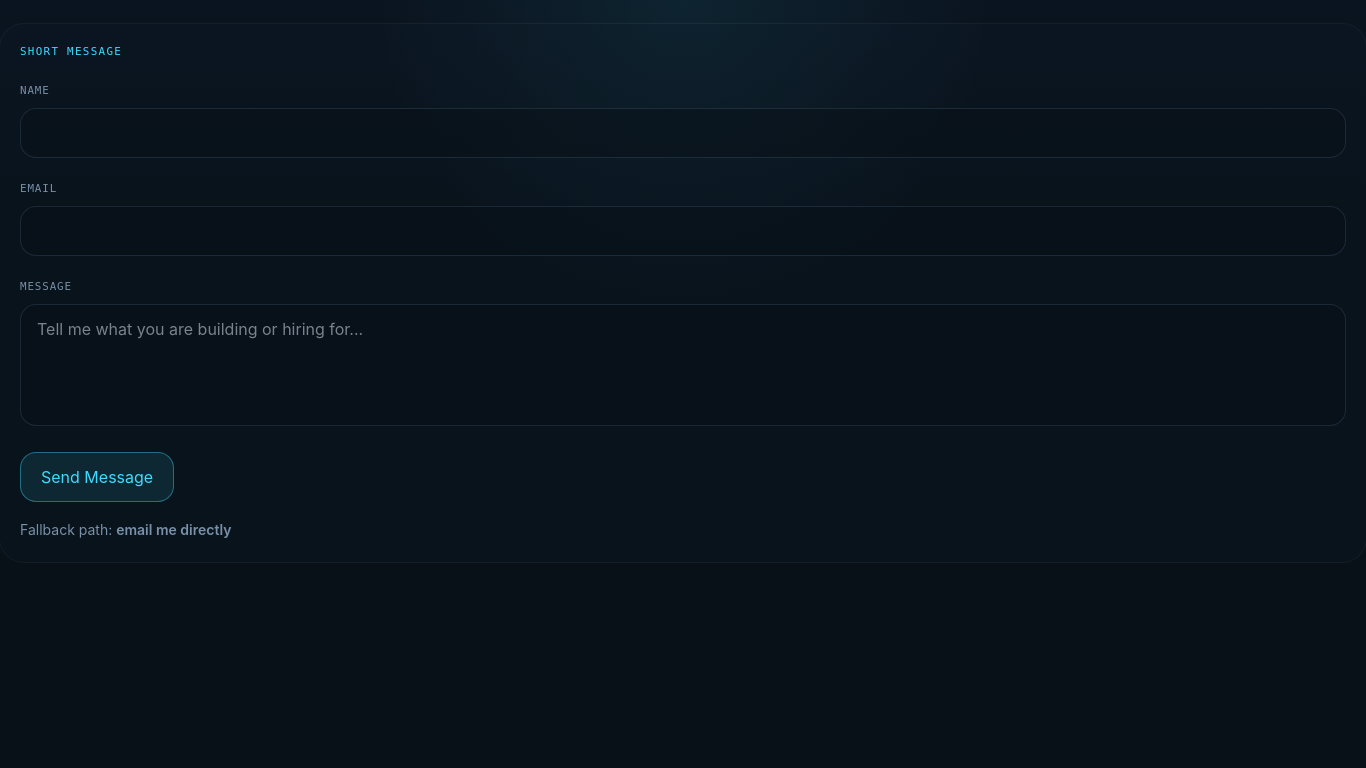
ContactForm › rejects invalid email format before submission
This screenshot has width=1366, height=768.
Type "Thapelo" into the field labelled "Name". click: x=683, y=133
box: [20,108,1346,158]
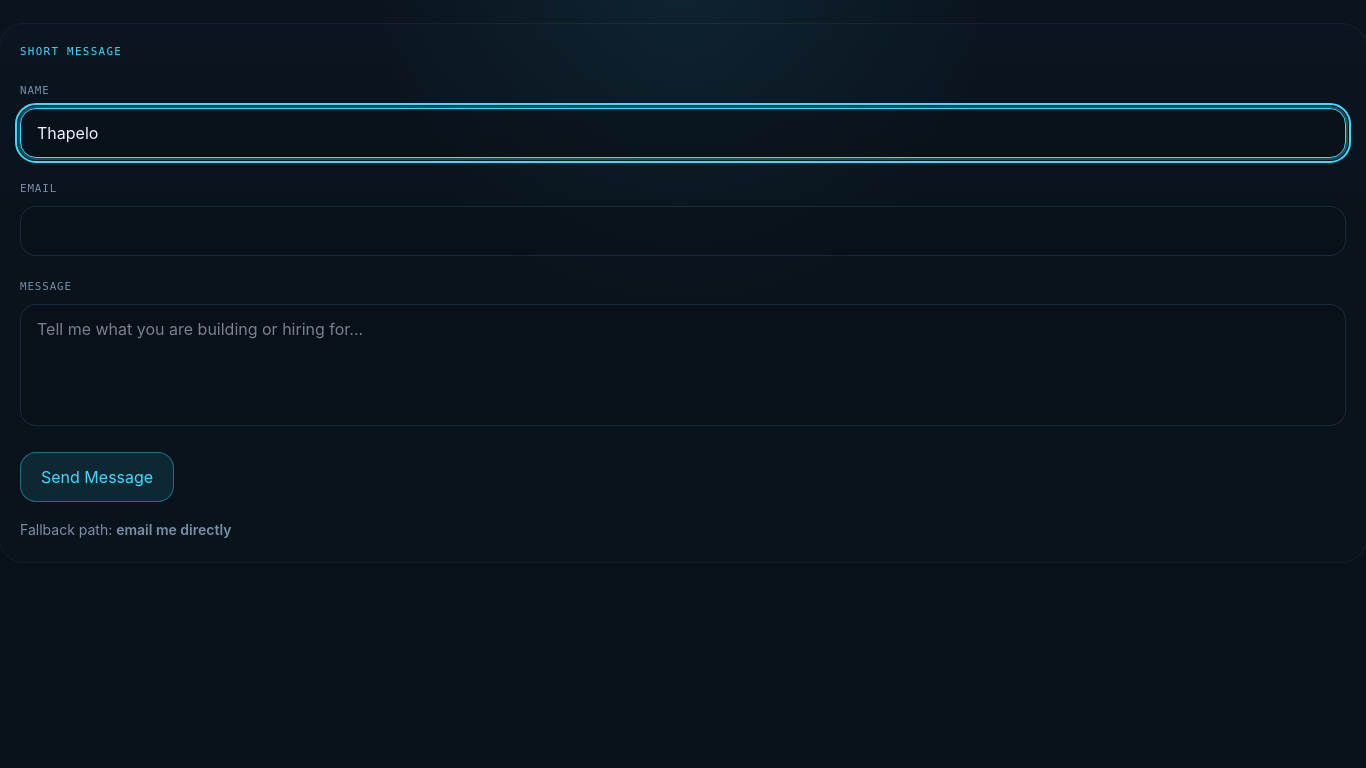
Type "invalid-email" into the field labelled "Email". click: x=683, y=231
box: [20,206,1346,256]
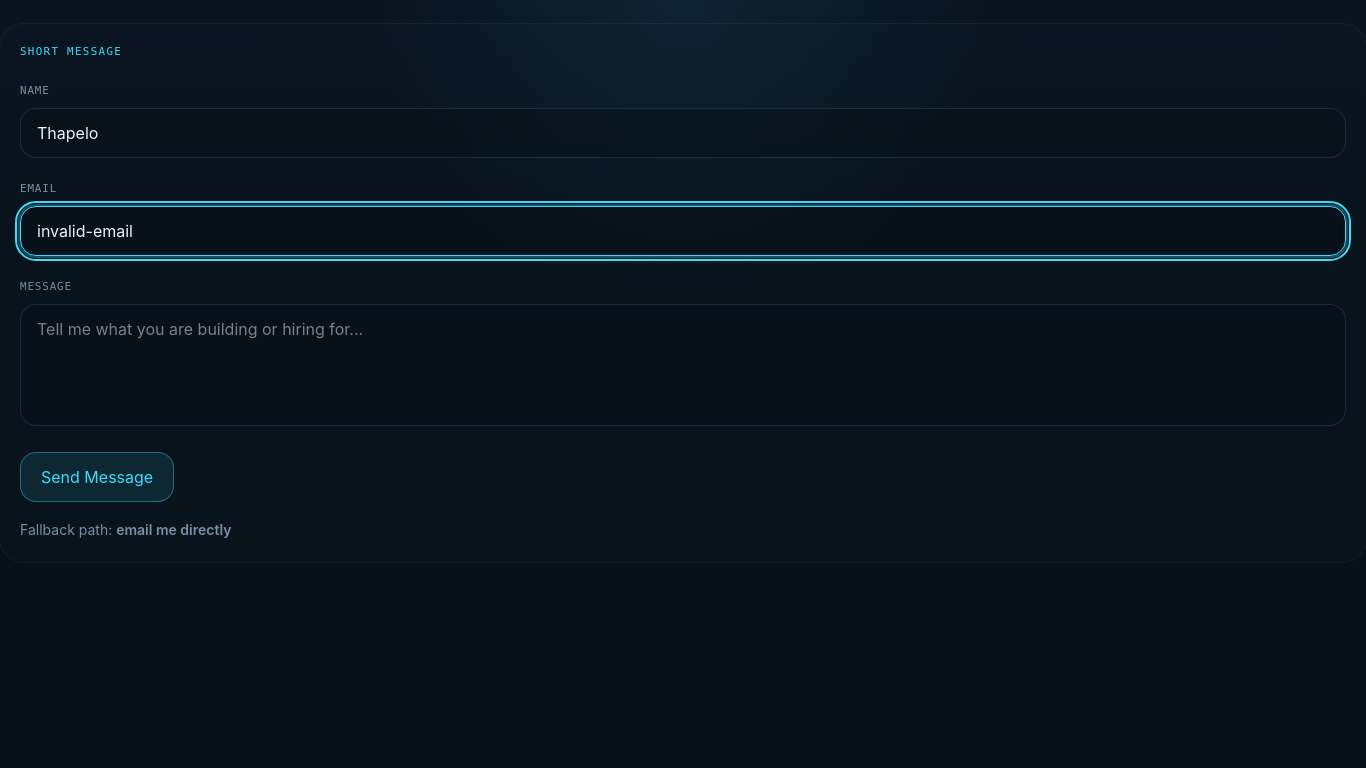
Type "This is a valid length message." into the text box labelled "Message". click: x=683, y=365
box: [20,304,1346,426]
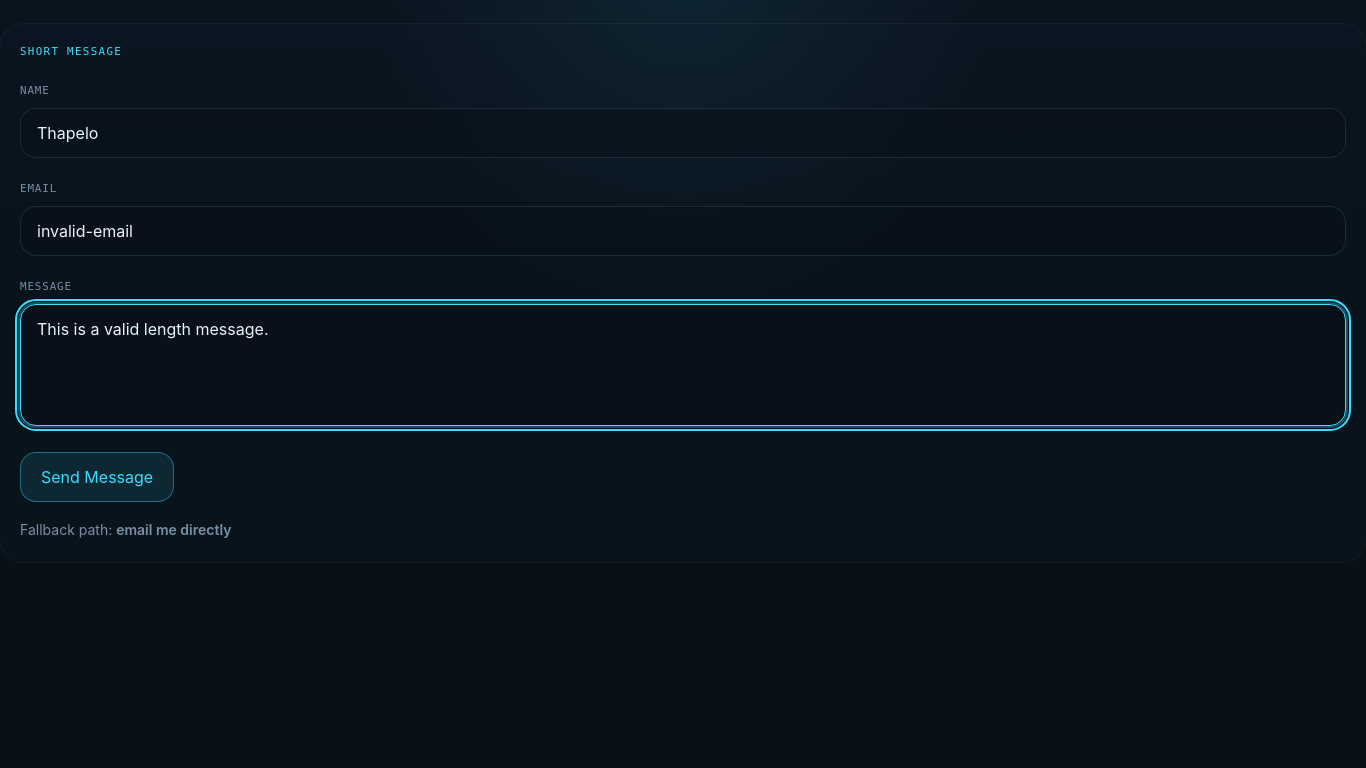
Click the button "Send Message". click: x=97, y=477
box: [20,452,174,502]
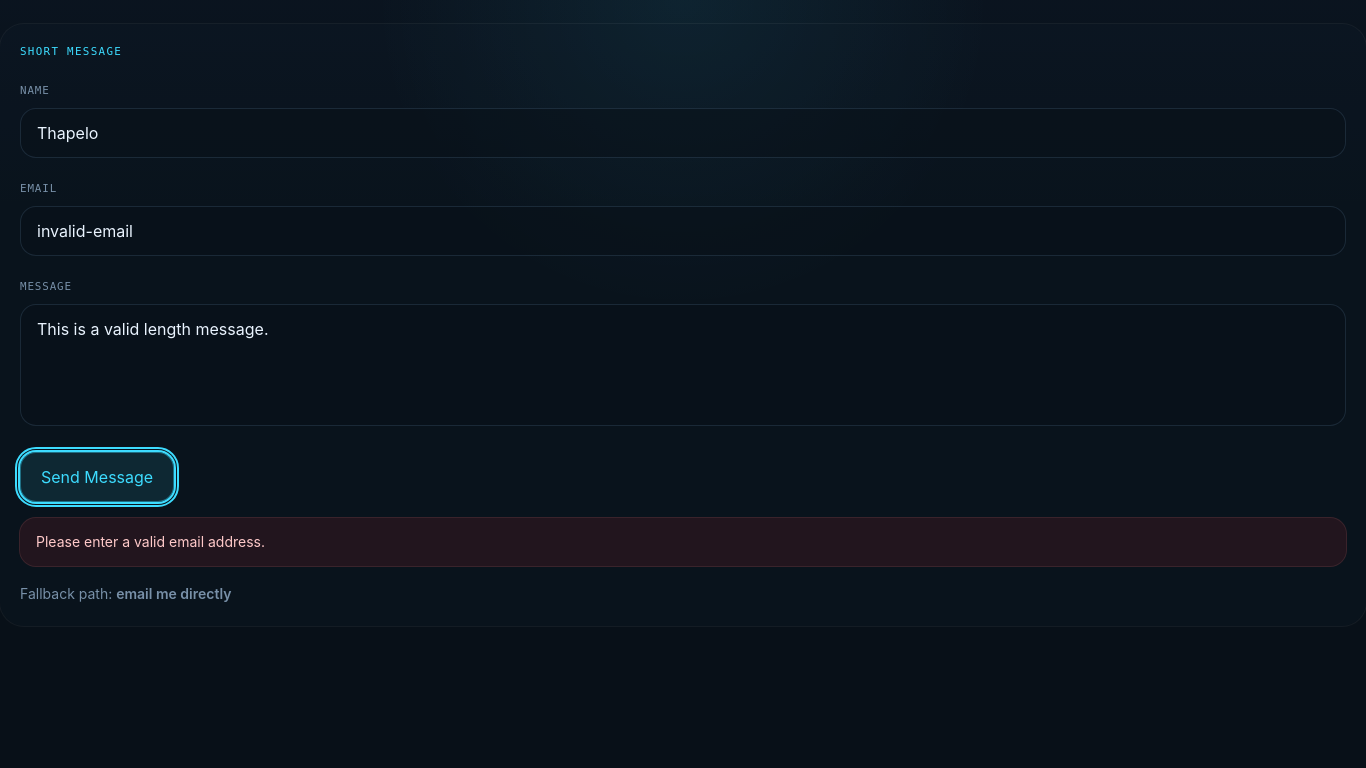
Expected: the message shows "valid email address", [36,533,265,550]
